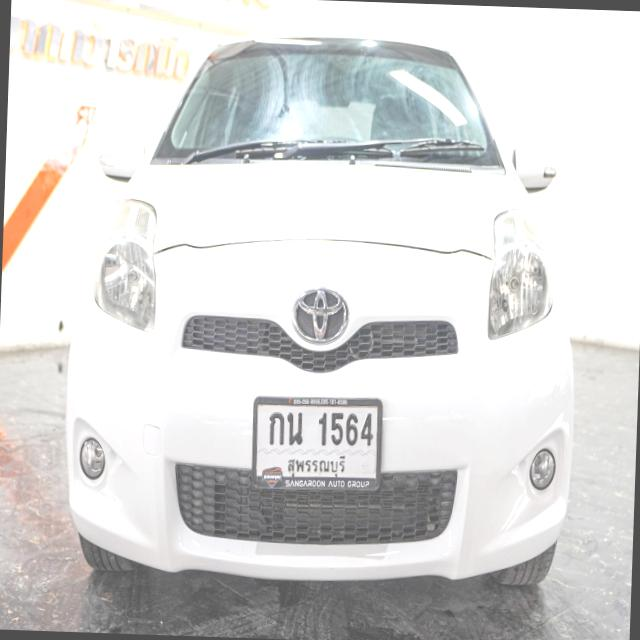license_plate: (249, 393, 384, 496)
